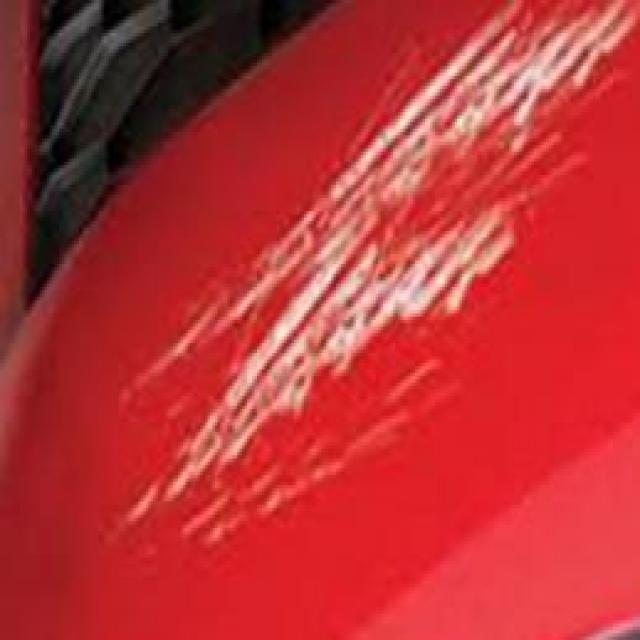scratch: (48, 7, 636, 574)
